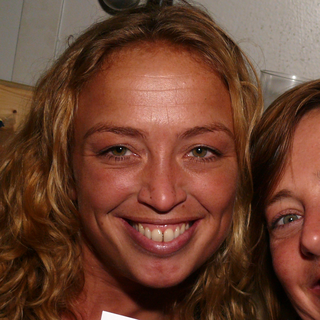eye: (94, 140, 142, 167), (174, 140, 223, 164), (265, 206, 307, 233)
